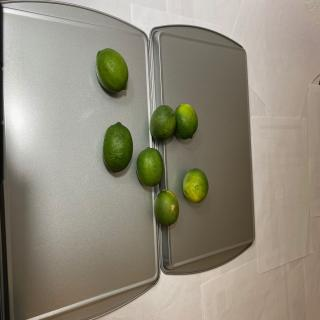Lemon: (102, 121, 133, 172), (95, 48, 128, 93), (136, 147, 164, 187), (150, 104, 177, 140), (154, 189, 179, 226), (182, 168, 208, 203), (175, 104, 198, 140)
